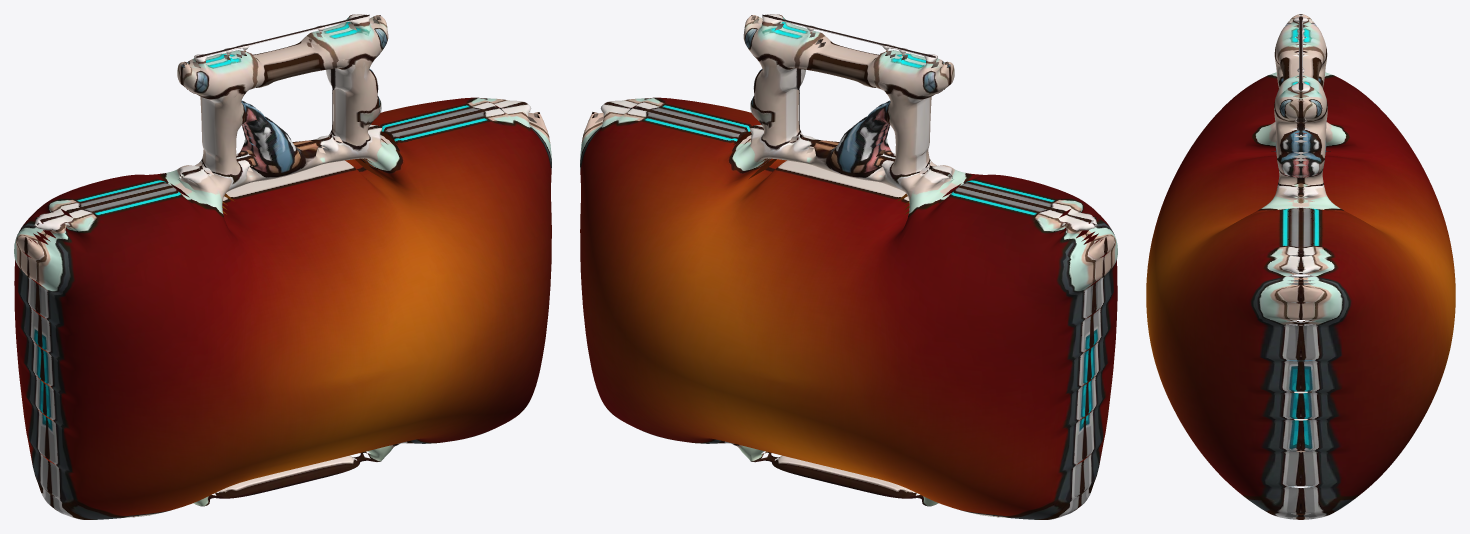
File: wall_display.glb
3 views of the same model, side by side, from view 1: azimuth 30°, elevation 25°; view 2: azimuth 150°, elevation 25°; view 3: azimuth 270°, elevation 25° (orthographic). The views are drawn at different scales.
Parts seen in each view (by area): view 1: wall_display; view 2: wall_display; view 3: wall_display.
Boxes of the visible parts, x1=… form: wall_display: x1=14, y1=14, x2=551, y2=519; wall_display: x1=580, y1=14, x2=1117, y2=519; wall_display: x1=1146, y1=14, x2=1455, y2=519.
Bounding box in the file's own units: 0.9901 × 0.8135 × 0.5871.
1 material, 1 textured.
